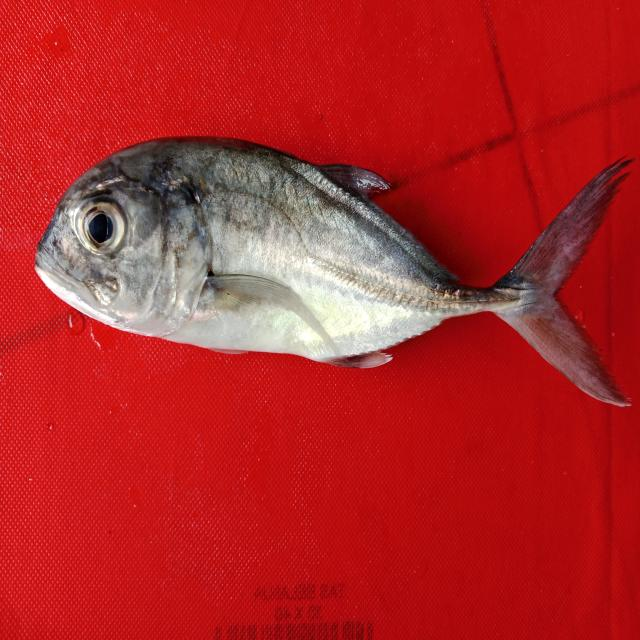ikan: (27, 104, 630, 426)
